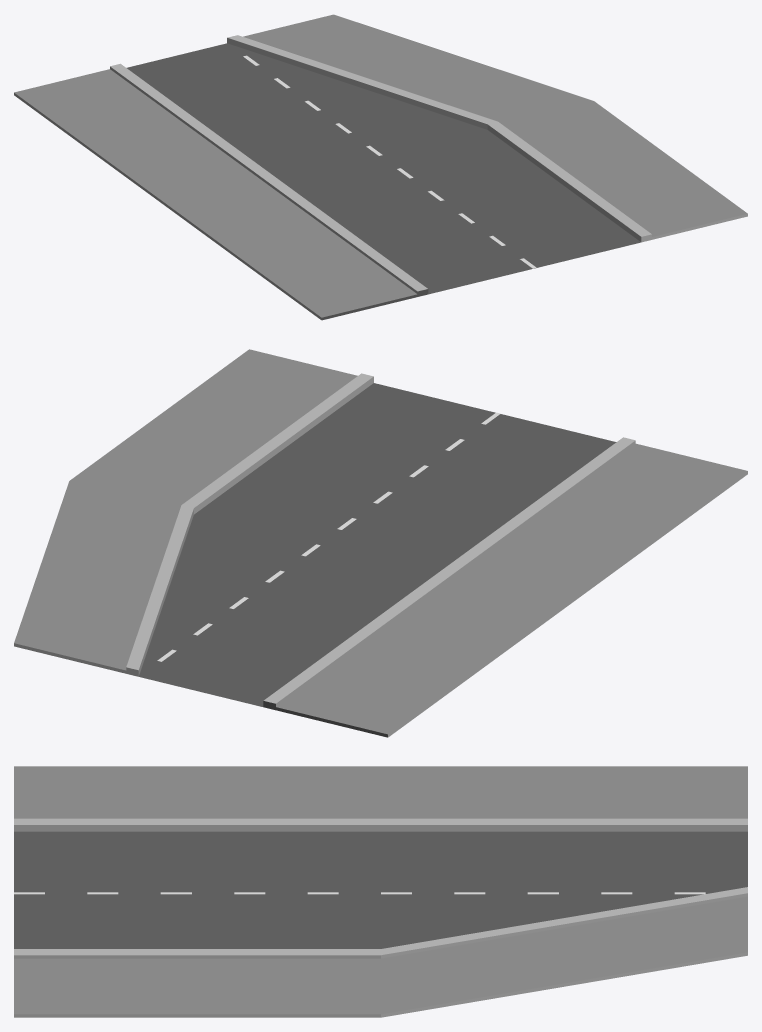
The model's file is street_2to1.fbx.
3 renders of one model, top to bottom at view 1: azimuth 30°, elevation 25°; view 2: azimuth 150°, elevation 25°; view 3: azimuth 270°, elevation 25°, orthographic. The views are drawn at different scales.
Visible parts, largest first — view 1: street_2to1; view 2: street_2to1; view 3: street_2to1.
Boxes of the visible parts, bbox=[...] form: street_2to1: bbox=[14, 14, 747, 320]; street_2to1: bbox=[14, 349, 747, 737]; street_2to1: bbox=[14, 766, 747, 1017].
Size of the model in its own units: 16 by 0.2 by 20.
